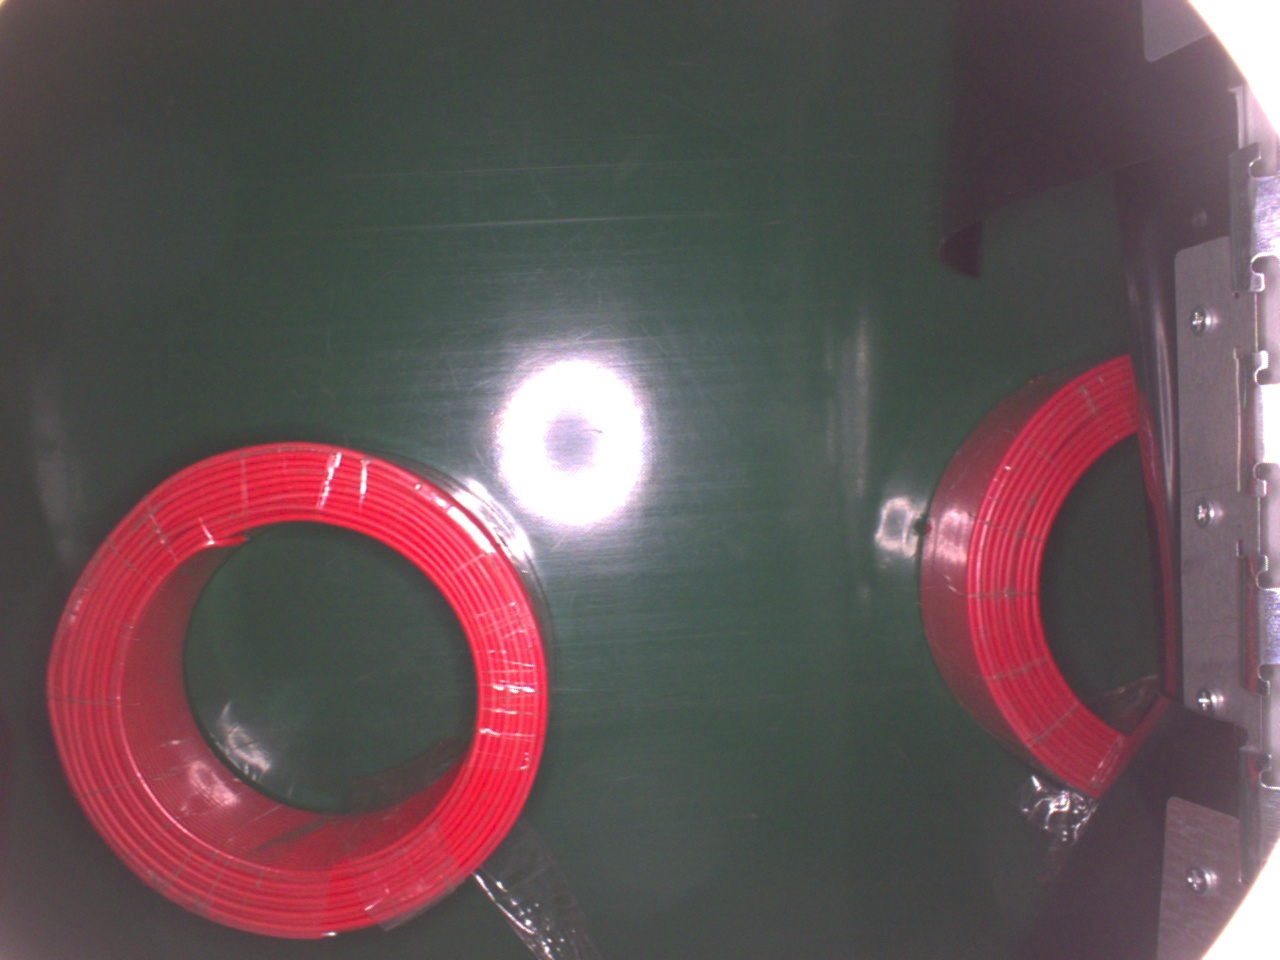red: (42, 436, 547, 940), (913, 350, 1163, 810)
